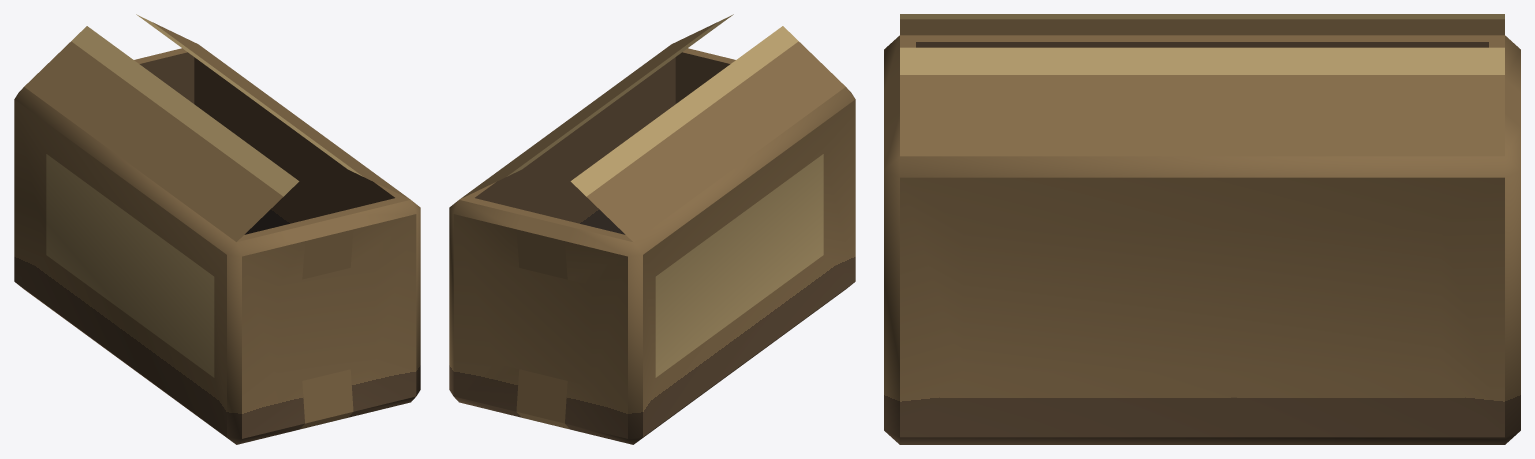
The model's file is supplies-wide-box.glb.
3 renders of one model, left to right at view 1: azimuth 30°, elevation 25°; view 2: azimuth 150°, elevation 25°; view 3: azimuth 270°, elevation 25°, orthographic. The views are drawn at different scales.
Parts seen in each view (by area): view 1: supplies-wide-box runtime mesh; view 2: supplies-wide-box runtime mesh; view 3: supplies-wide-box runtime mesh.
Boxes of the visible parts, <box> form: supplies-wide-box runtime mesh: <box>14,14,420,444</box>; supplies-wide-box runtime mesh: <box>449,14,855,444</box>; supplies-wide-box runtime mesh: <box>884,14,1520,444</box>.
Bounding box in the file's own units: 0.4898 × 0.6 × 0.9796.
1 material, 1 textured.
